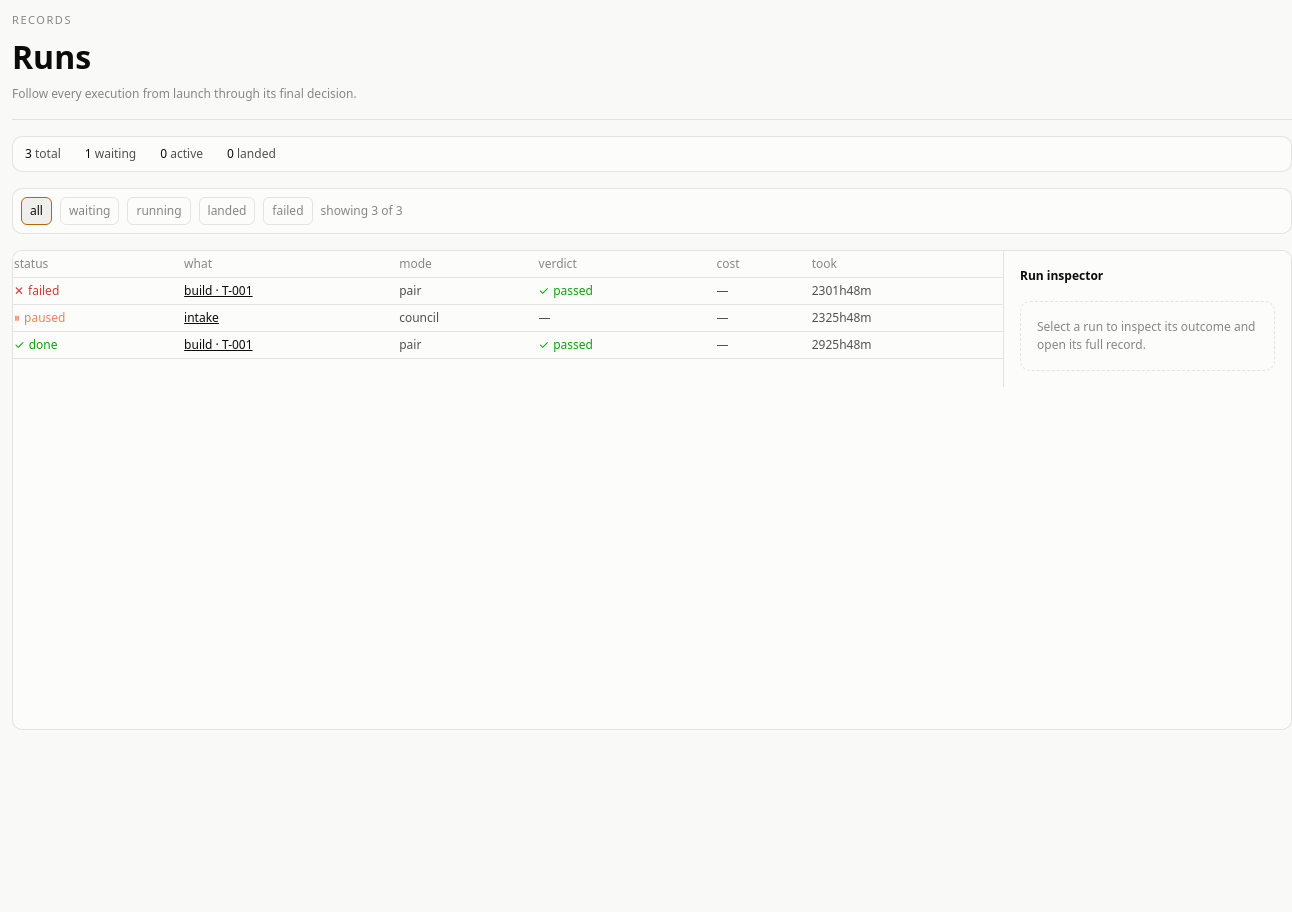
Runs › filters to the runs waiting for a person
This screenshot has width=1292, height=912.
Click the button with test id "runs-filter-waiting": point(90, 210) [60,196,119,224]
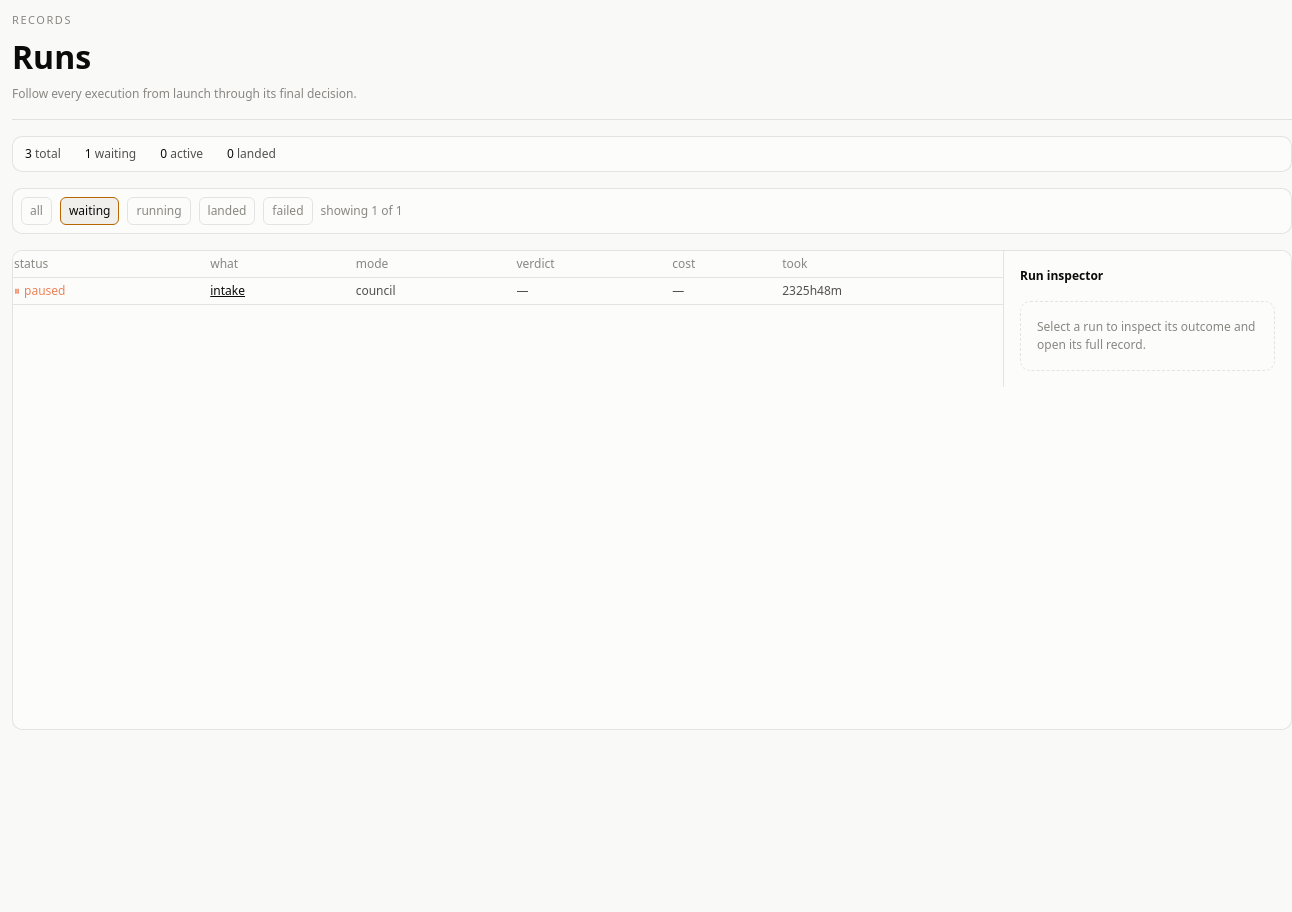
Check: the number of rows with test id "runs-row" is 1, box [13,277,1003,304]
